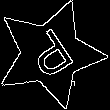P_SE: (20, 23, 80, 85)
